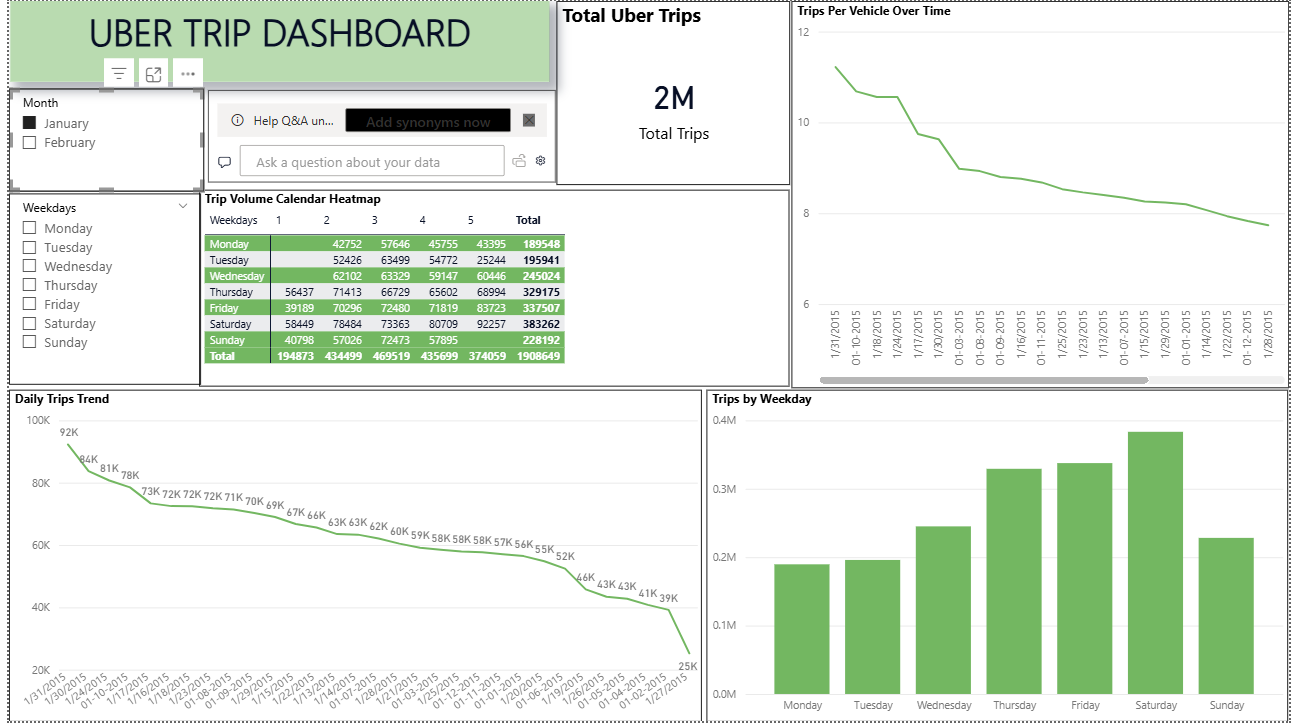

The dashboard page shown, as its layout file describes it:
{"tool":"powerbi","page":{"name":"Page 1","canvas":[1280,720],"ordinal":0},"visuals":[{"type":"card","title":"Total Uber Trips ","fields":{"Values":["Uber-Jan-Feb-FOIL.Total Trips"]},"box":[547.7,0,233.7,184.2],"z":0},{"type":"lineChart","title":"Daily Trips Trend","fields":{"Category":["Uber-Jan-Feb-FOIL.date"],"Y":["Sum(Uber-Jan-Feb-FOIL.trips)"]},"box":[0,388.6,693,332.3],"z":1000},{"type":"clusteredColumnChart","title":"Trips by Weekday","fields":{"Y":["Sum(Uber-Jan-Feb-FOIL.trips)"],"Category":["Uber-Jan-Feb-FOIL.WeekdayName"]},"box":[697.7,388.1,581.4,331.6],"z":2000},{"type":"lineChart","title":"Trips Per Vehicle Over Time","fields":{"Category":["Uber-Jan-Feb-FOIL.date"],"Y":["Uber-Jan-Feb-FOIL.Trips Per Vehicle"]},"box":[782.6,0,497.7,387.4],"z":3000},{"type":"slicer","title":"Month","fields":{"Values":["Uber-Jan-Feb-FOIL.MonthName"]},"box":[0,87.2,195.1,103.3],"z":4000},{"type":"slicer","fields":{"Values":["Uber-Jan-Feb-FOIL.WeekdayName"]},"box":[0,193,192.3,190.9],"z":5000},{"type":"pivotTable","title":"Trip Volume Calendar Heatmap","fields":{"Rows":["Uber-Jan-Feb-FOIL.WeekdayName"],"Values":["Uber-Jan-Feb-FOIL.Total Trips"],"Columns":["Uber-Jan-Feb-FOIL.WeekOfYear"]},"box":[190.2,188.1,590.7,196.5],"z":6000},{"type":"textbox","box":[1.2,0,539.5,81.2],"z":7000},{"type":"qnaVisual","box":[198.8,88.8,347.7,92.6],"z":8000}]}

Visuals, with their boxes in screenshot pixels (x1, y1, x2, y2):
"Total Uber Trips " card: <box>554,0,787,183</box>
"Daily Trips Trend" lineChart: <box>10,386,699,716</box>
"Trips by Weekday" clusteredColumnChart: <box>704,386,1281,715</box>
"Trips Per Vehicle Over Time" lineChart: <box>788,0,1283,385</box>
"Month" slicer: <box>10,87,204,189</box>
slicer - Uber-Jan-Feb-FOIL.WeekdayName: <box>10,192,201,382</box>
"Trip Volume Calendar Heatmap" pivotTable: <box>199,187,786,382</box>
textbox: <box>11,0,548,81</box>
qnaVisual: <box>208,88,553,180</box>
